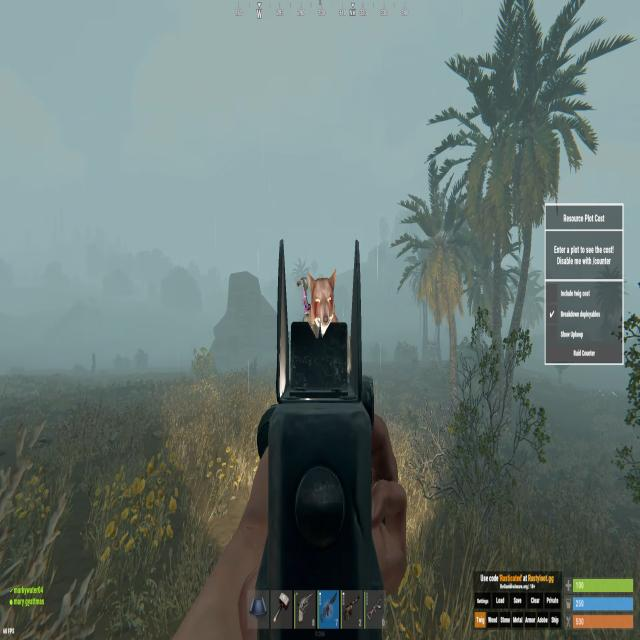Player: (300, 266, 342, 324)
